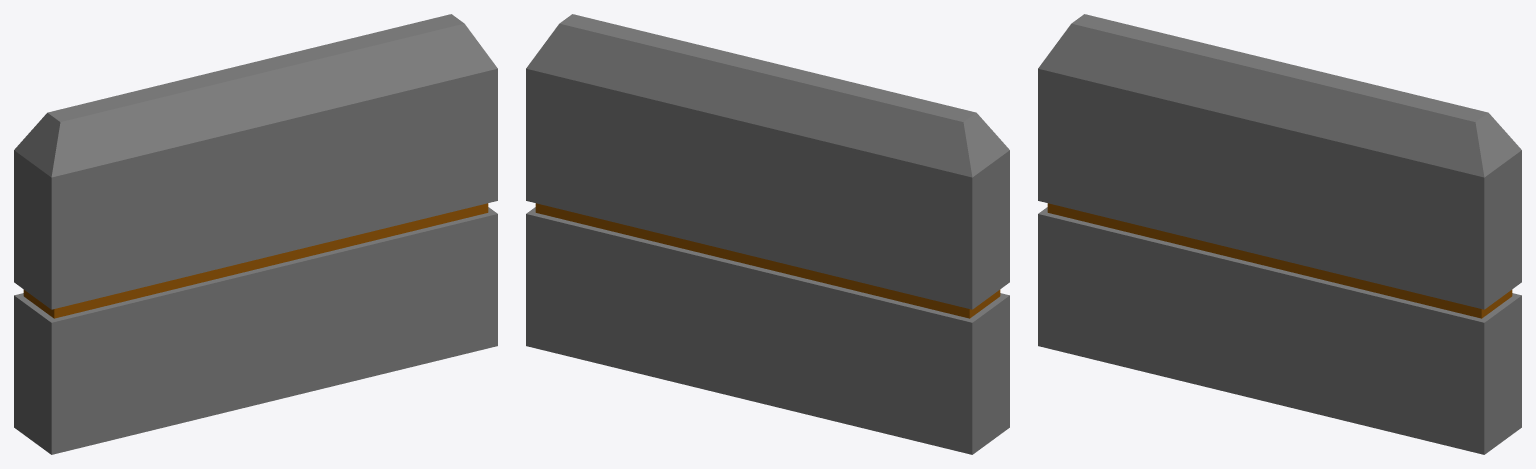
Rendered from Semimuro.fbx.
The picture shows the model from 3 angles, left to right: view 1: azimuth 30°, elevation 25°; view 2: azimuth 150°, elevation 25°; view 3: azimuth 330°, elevation 25°; orthographic projection.
Parts seen in each view (by area): view 1: semimuro; view 2: semimuro; view 3: semimuro.
Boxes of the visible parts, x1=… form: semimuro: x1=14, y1=14, x2=497, y2=454; semimuro: x1=526, y1=14, x2=1009, y2=454; semimuro: x1=1038, y1=14, x2=1521, y2=454.
Size of the model in its own units: 77.98 by 53.19 by 11.35.
